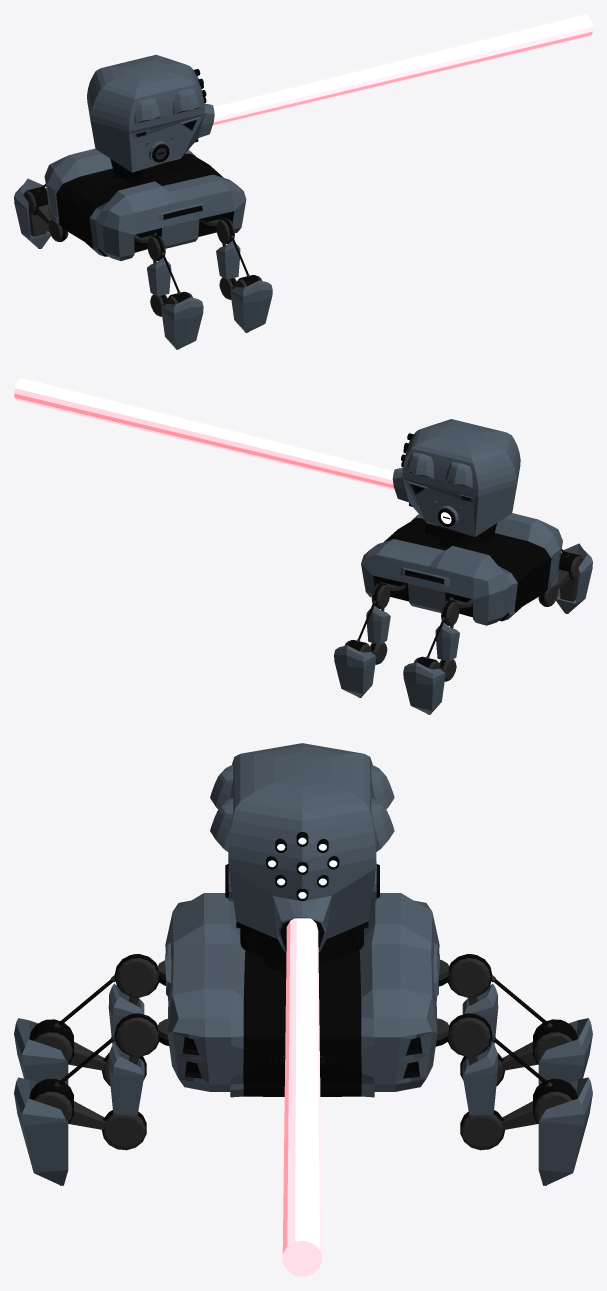
The model's file is laserBot.glb.
The picture shows the model from 3 angles, top to bottom: view 1: azimuth 30°, elevation 25°; view 2: azimuth 150°, elevation 25°; view 3: azimuth 270°, elevation 25°; orthographic projection. The views are drawn at different scales.
Visible parts, largest first — view 1: Body, Head, Laser, Leg_FrontLeft.011, Leg_FrontLeft.015, Leg_FrontLeft.010, Leg_FrontLeft.014, Leg_FrontLeft.007, Leg_FrontLeft.006; view 2: Body, Head, Laser, Leg_FrontLeft.007, Leg_FrontLeft.004, Leg_FrontLeft.006, Leg_FrontLeft.002, Leg_FrontLeft.015, Leg_FrontLeft.014; view 3: Body, Head, Laser, Leg_FrontLeft.002, Leg_FrontLeft.010, Leg_FrontLeft.004, Leg_FrontLeft.011, Leg_FrontLeft.014, Leg_FrontLeft.006, Leg_FrontLeft.015, Leg_FrontLeft.007.
Part boxes in pixels (x1,y1,x2,y2): Body: [44, 148, 246, 260]; Head: [87, 54, 214, 179]; Laser: [212, 14, 592, 125]; Leg_FrontLeft.011: [230, 275, 272, 332]; Leg_FrontLeft.015: [161, 292, 203, 349]; Leg_FrontLeft.010: [216, 219, 259, 299]; Leg_FrontLeft.014: [147, 236, 190, 316]; Leg_FrontLeft.007: [14, 178, 50, 248]; Leg_FrontLeft.006: [26, 184, 68, 241]; Body: [361, 513, 562, 625]; Head: [392, 419, 520, 543]; Laser: [14, 378, 394, 489]; Leg_FrontLeft.007: [403, 657, 445, 714]; Leg_FrontLeft.004: [334, 640, 376, 697]; Leg_FrontLeft.006: [416, 601, 459, 681]; Leg_FrontLeft.002: [347, 584, 390, 664]; Leg_FrontLeft.015: [556, 543, 592, 613]; Leg_FrontLeft.014: [538, 549, 580, 606]; Body: [165, 893, 439, 1097]; Head: [210, 743, 394, 964]; Laser: [282, 918, 322, 1276]; Leg_FrontLeft.002: [448, 1013, 577, 1150]; Leg_FrontLeft.010: [29, 1013, 158, 1150]; Leg_FrontLeft.004: [534, 1077, 592, 1185]; Leg_FrontLeft.011: [14, 1077, 72, 1185]; Leg_FrontLeft.014: [29, 954, 158, 1086]; Leg_FrontLeft.006: [448, 954, 577, 1086]; Leg_FrontLeft.015: [14, 1018, 72, 1084]; Leg_FrontLeft.007: [534, 1018, 592, 1084].
Bounding box in the file's own units: 7.29 × 2.99 × 4.04.
